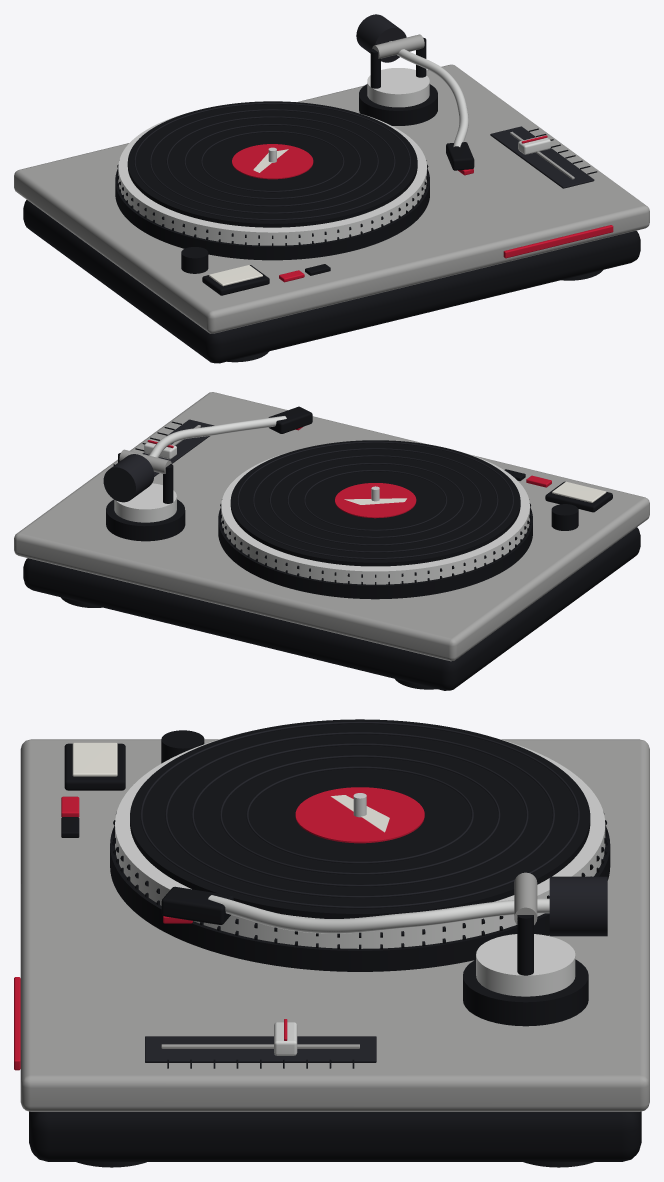
File: hao-turntable.glb
3 renders of one model, top to bottom at view 1: azimuth 30°, elevation 25°; view 2: azimuth 150°, elevation 25°; view 3: azimuth 270°, elevation 25°, orthographic. The views are drawn at different scales.
Visible parts, largest first — view 1: DJ_银色铝面板, DJ_黑胶唱片, DJ_黑色减震底盘, DJ_银色频闪盘沿, DJ_黑色转盘基座, DJ_绯红唱片标, DJ_唱臂银环, DJ_推子槽, DJ_唱臂座, DJ_配重, DJ_唱片刻纹.004, DJ_S形唱臂 (+10 smaller); view 2: DJ_银色铝面板, DJ_黑胶唱片, DJ_黑色减震底盘, DJ_银色频闪盘沿, DJ_黑色转盘基座, DJ_绯红唱片标, DJ_唱臂座, DJ_配重, DJ_唱臂银环, DJ_S形唱臂, DJ_唱片刻纹.004, DJ_唱片刻纹.003 (+8 smaller); view 3: DJ_银色铝面板, DJ_黑胶唱片, DJ_黑色减震底盘, DJ_银色频闪盘沿, DJ_黑色转盘基座, DJ_推子槽, DJ_绯红唱片标, DJ_S形唱臂, DJ_唱臂银环, DJ_唱臂座, DJ_配重, DJ_唱片刻纹.004 (+13 smaller).
Part boxes in pixels (bbox=[...]): DJ_银色铝面板: bbox=[14, 64, 649, 333]; DJ_黑胶唱片: bbox=[127, 101, 417, 227]; DJ_黑色减震底盘: bbox=[23, 200, 640, 363]; DJ_银色频闪盘沿: bbox=[118, 113, 426, 245]; DJ_黑色转盘基座: bbox=[115, 168, 429, 260]; DJ_绯红唱片标: bbox=[232, 144, 313, 179]; DJ_唱臂银环: bbox=[367, 68, 429, 107]; DJ_推子槽: bbox=[490, 126, 594, 188]; DJ_唱臂座: bbox=[359, 84, 437, 125]; DJ_配重: bbox=[356, 14, 406, 62]; DJ_唱片刻纹.004: bbox=[134, 102, 410, 220]; DJ_S形唱臂: bbox=[389, 41, 468, 146]; DJ_银色铝面板: bbox=[14, 392, 649, 661]; DJ_黑胶唱片: bbox=[230, 440, 520, 566]; DJ_黑色减震底盘: bbox=[23, 527, 640, 690]; DJ_银色频闪盘沿: bbox=[221, 452, 529, 584]; DJ_黑色转盘基座: bbox=[218, 507, 532, 599]; DJ_绯红唱片标: bbox=[335, 483, 416, 518]; DJ_唱臂座: bbox=[106, 499, 185, 541]; DJ_配重: bbox=[103, 454, 154, 502]; DJ_唱臂银环: bbox=[114, 483, 176, 522]; DJ_S形唱臂: bbox=[149, 416, 286, 457]; DJ_唱片刻纹.004: bbox=[237, 441, 513, 559]; DJ_唱片刻纹.003: bbox=[253, 448, 498, 552]; DJ_银色铝面板: bbox=[20, 739, 649, 1111]; DJ_黑胶唱片: bbox=[130, 719, 590, 918]; DJ_黑色减震底盘: bbox=[29, 1111, 641, 1161]; DJ_银色频闪盘沿: bbox=[115, 737, 605, 948]; DJ_黑色转盘基座: bbox=[110, 825, 610, 971]; DJ_推子槽: bbox=[145, 1036, 376, 1062]; DJ_绯红唱片标: bbox=[295, 787, 424, 843]; DJ_S形唱臂: bbox=[208, 895, 549, 933]; DJ_唱臂银环: bbox=[476, 934, 575, 996]; DJ_唱臂座: bbox=[463, 959, 588, 1026]; DJ_配重: bbox=[549, 876, 607, 936]; DJ_唱片刻纹.004: bbox=[140, 721, 579, 908].
Bounding box in the file's own units: 0.49 × 0.155 × 0.384.
